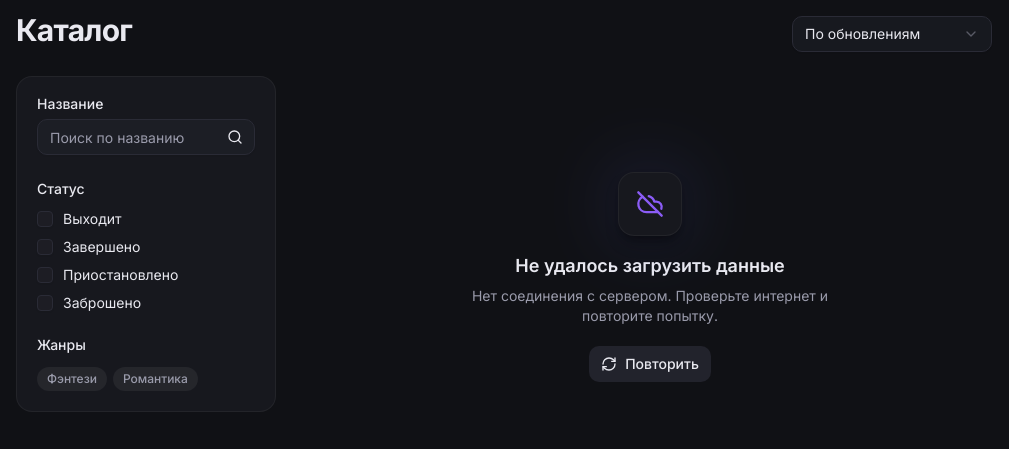
каталог › показывает ошибку API и позволяет повторить запрос
This screenshot has width=1009, height=449.
Expected: the text "Нет соединения с сервером" is shown, [472,287,828,324]
What coordinates should you click on to do the following:
click the button "Повторить"
I would click on:
 (650, 364)
Its box is [589,346,711,382].
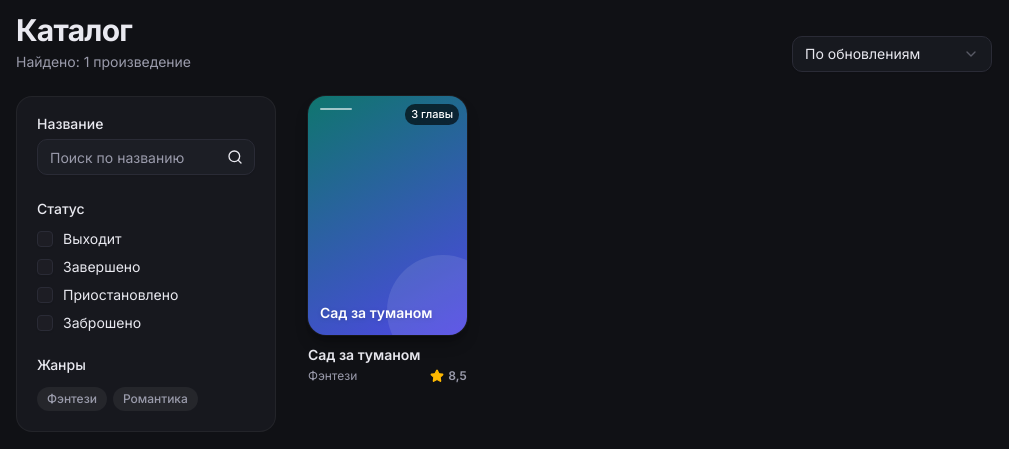
Result: the heading "Сад за туманом" is shown at [308,346,420,362]
